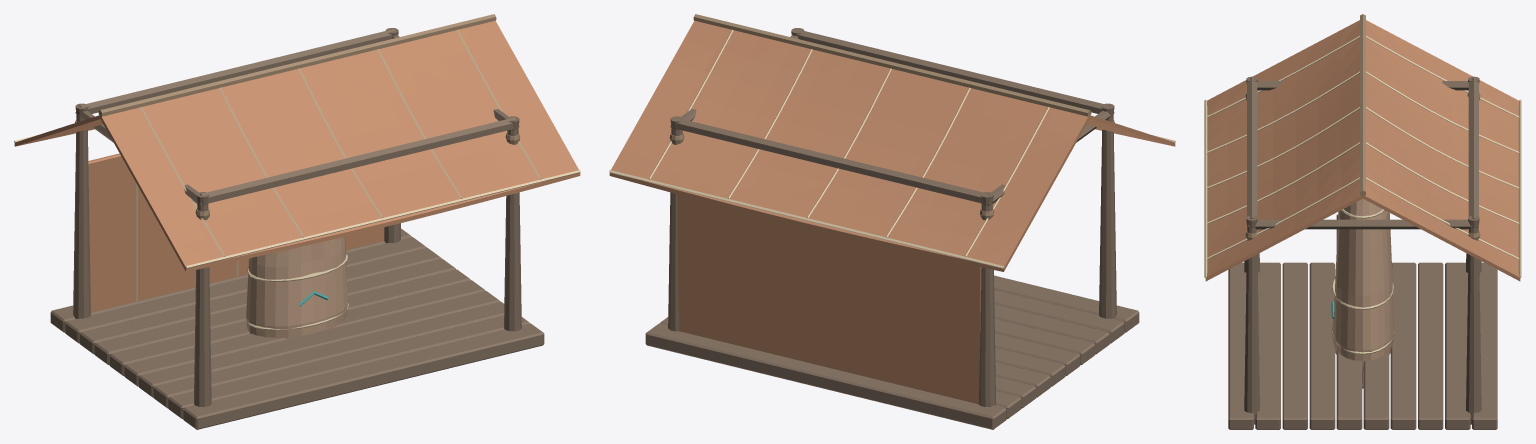
File: world10-oasis-props.glb
3 renders of one model, left to right at view 1: azimuth 30°, elevation 25°; view 2: azimuth 150°, elevation 25°; view 3: azimuth 270°, elevation 25°, orthographic. The views are drawn at different scales.
Visible parts, largest first — view 1: desert-tent · ochre-cloth, desert-tent · old-wood, thick carved sandstone with integral recessed face, desert-tent · ivory-thread, desert-tent · aged-copper, desert-waystone · ivory-thread; view 2: desert-tent · ochre-cloth, desert-tent · old-wood, desert-tent · aged-copper, desert-tent · ivory-thread; view 3: desert-tent · ochre-cloth, desert-tent · old-wood, thick carved sandstone with integral recessed face, desert-tent · ivory-thread, desert-tent · aged-copper, desert-waystone · ivory-thread.
Boxes of the visible parts, left/top/right/bottom form: desert-tent · ochre-cloth: left=14, top=20, right=580, bottom=312; desert-tent · old-wood: left=50, top=28, right=544, bottom=429; thick carved sandstone with integral recessed face: left=246, top=236, right=347, bottom=338; desert-tent · ivory-thread: left=14, top=29, right=580, bottom=300; desert-tent · aged-copper: left=75, top=14, right=520, bottom=219; desert-waystone · ivory-thread: left=246, top=254, right=348, bottom=330; desert-tent · ochre-cloth: left=609, top=20, right=1175, bottom=404; desert-tent · old-wood: left=645, top=28, right=1139, bottom=429; desert-tent · aged-copper: left=669, top=14, right=1114, bottom=219; desert-tent · ivory-thread: left=609, top=29, right=1175, bottom=268; desert-tent · ochre-cloth: left=1205, top=20, right=1520, bottom=281; desert-tent · old-wood: left=1228, top=76, right=1497, bottom=429; thick carved sandstone with integral recessed face: left=1332, top=199, right=1394, bottom=370; desert-tent · ivory-thread: left=1204, top=36, right=1521, bottom=277; desert-tent · aged-copper: left=1245, top=14, right=1480, bottom=240; desert-waystone · ivory-thread: left=1331, top=209, right=1394, bottom=354.
Bounding box in the file's own units: 6.48 × 4.76 × 4.92.
